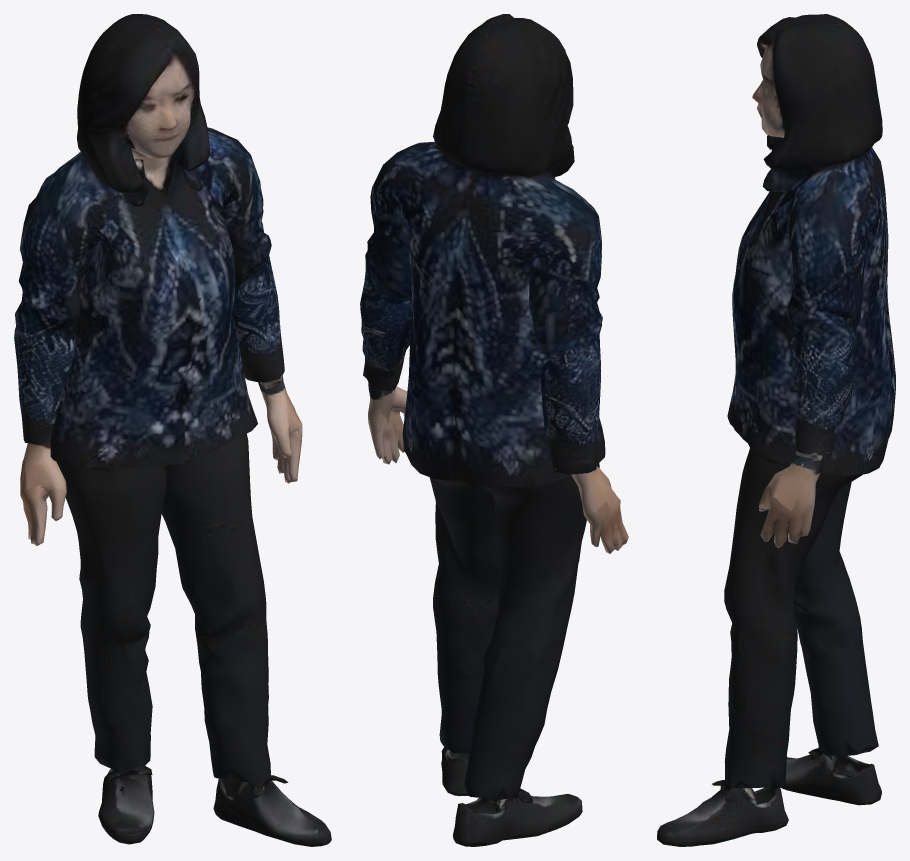
File: cewek_baju_batik_idle.glb
The picture shows the model from 3 angles, left to right: view 1: azimuth 30°, elevation 25°; view 2: azimuth 150°, elevation 25°; view 3: azimuth 270°, elevation 25°; orthographic projection. The views are drawn at different scales.
Parts seen in each view (by area): view 1: tripo_node_08f21640-4b2e-4dcf-8c3c-9facbb47a148; view 2: tripo_node_08f21640-4b2e-4dcf-8c3c-9facbb47a148; view 3: tripo_node_08f21640-4b2e-4dcf-8c3c-9facbb47a148.
Boxes of the visible parts, x1,y1,x2,y2 form: tripo_node_08f21640-4b2e-4dcf-8c3c-9facbb47a148: [14, 14, 331, 846]; tripo_node_08f21640-4b2e-4dcf-8c3c-9facbb47a148: [360, 14, 628, 846]; tripo_node_08f21640-4b2e-4dcf-8c3c-9facbb47a148: [657, 14, 895, 846].
Size of the model in its own units: 33.87 by 99.71 by 27.8.
1 material, 1 textured.
